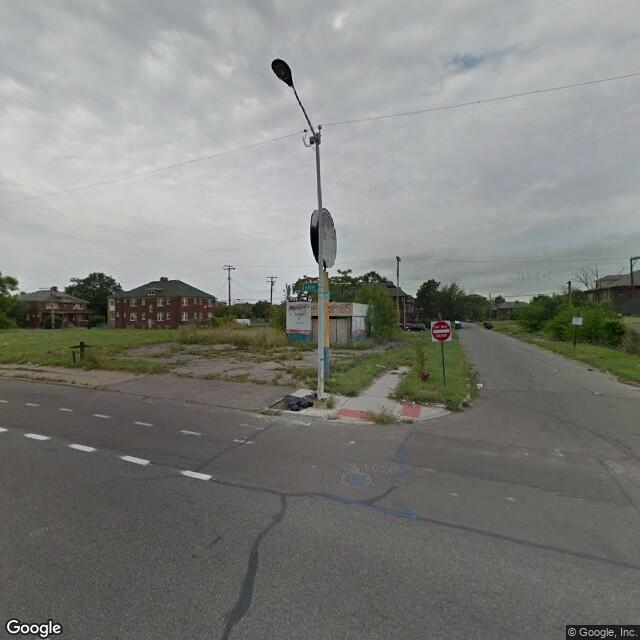litter: (282, 392, 313, 411), (474, 379, 484, 393), (414, 400, 415, 402)
